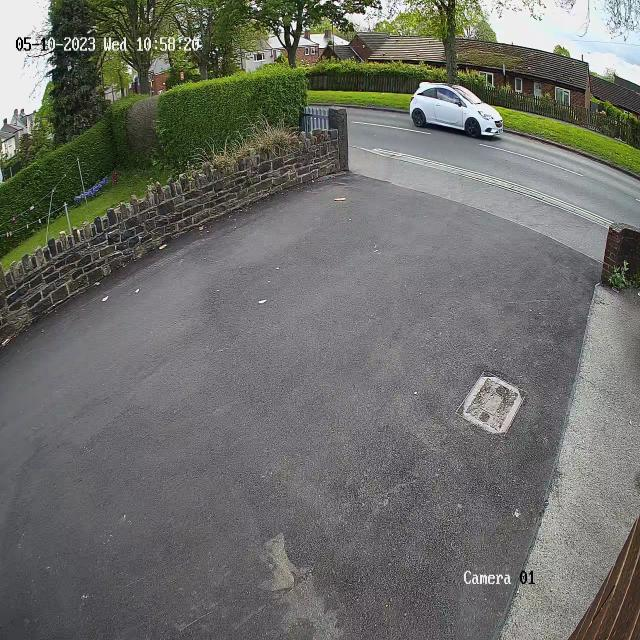vehicle: (406, 75, 512, 149)
